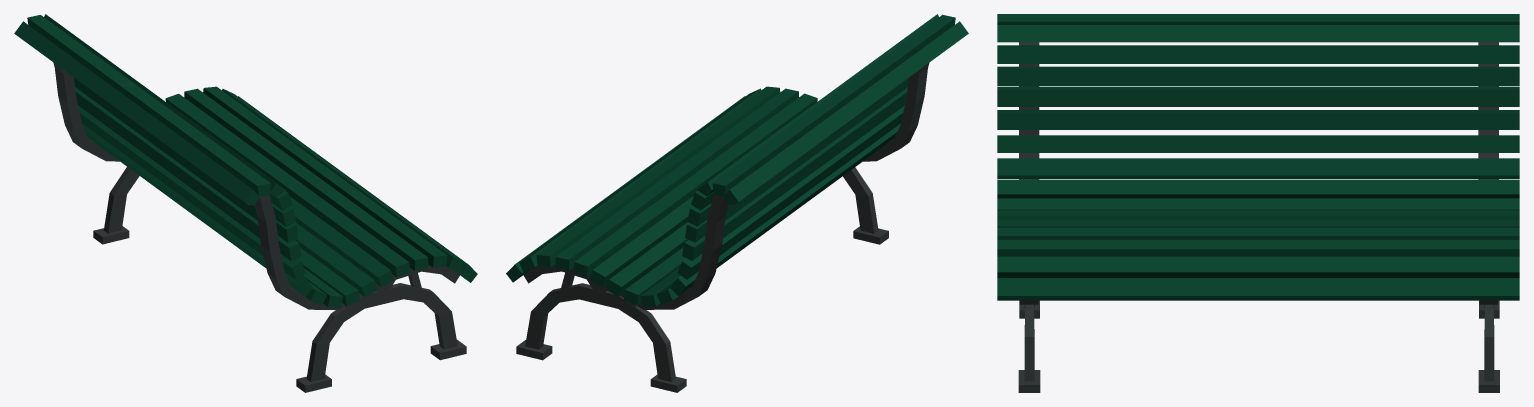
The model's file is banctext.fbx.
3 views of the same model, side by side, from view 1: azimuth 30°, elevation 25°; view 2: azimuth 150°, elevation 25°; view 3: azimuth 270°, elevation 25° (orthographic). The views are drawn at different scales.
Visible parts, largest first — view 1: Assise, G_Armature_2; view 2: Assise, G_Armature_2; view 3: Assise, G_Armature_2.
Part boxes in pixels (x1,y1,x2,y2): Assise: (14, 14, 477, 307); G_Armature_2: (53, 62, 466, 392); Assise: (506, 14, 968, 307); G_Armature_2: (516, 62, 929, 392); Assise: (997, 14, 1519, 300); G_Armature_2: (1018, 42, 1499, 392).
Size of the model in its own units: 431 by 403 by 738.
